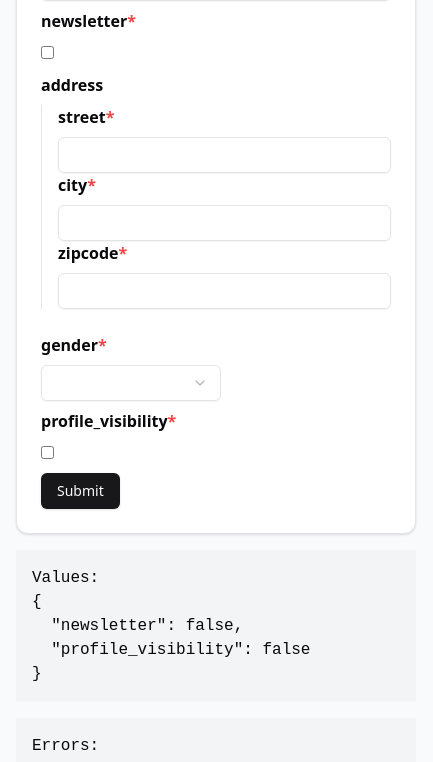
Test: Schema A › Form Happy Path › Verify fields integrity
(page scrolled)
Click the dropdown.
click(131, 383)  # box [41,365,221,401]
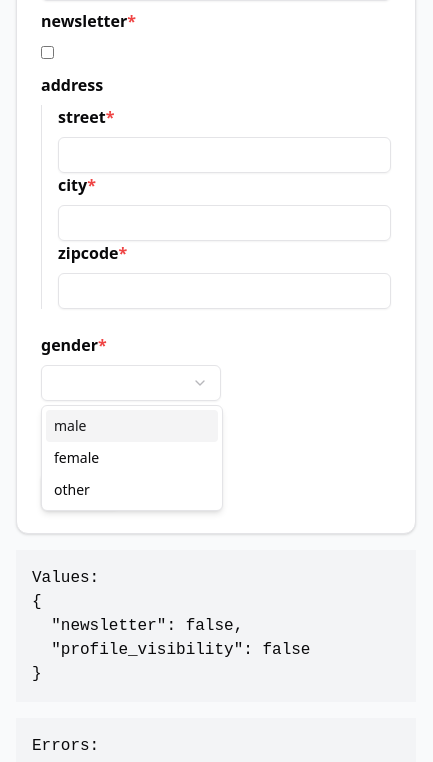
Expected: the text "male" is shown, [54,416,86,436]
Expected: the text "female" is shown, [54,448,99,468]
Expected: the text "other" is shown, [54,480,90,500]
